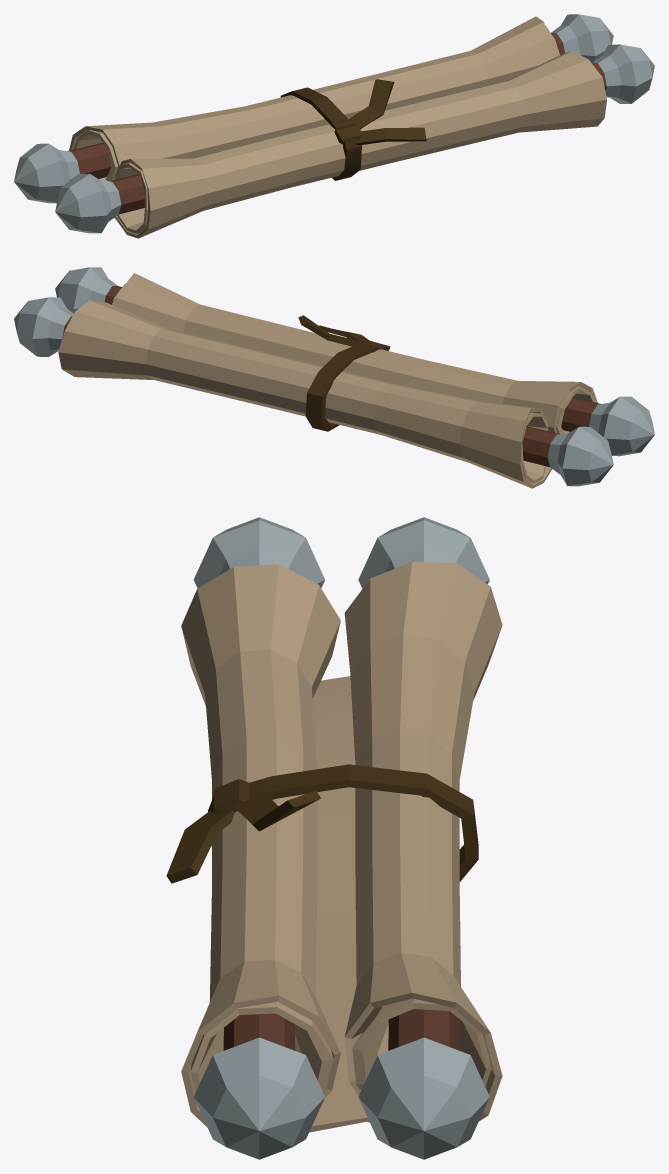
File: PT_Scroll_02_a.fbx
3 views of the same model, one above another, from view 1: azimuth 30°, elevation 25°; view 2: azimuth 150°, elevation 25°; view 3: azimuth 270°, elevation 25° (orthographic). The views are drawn at different scales.
Visible parts, largest first — view 1: PT_Scroll_02_a; view 2: PT_Scroll_02_a; view 3: PT_Scroll_02_a.
Boxes of the visible parts, x1,y1,x2,y2 form: PT_Scroll_02_a: [14, 14, 654, 238]; PT_Scroll_02_a: [14, 267, 654, 488]; PT_Scroll_02_a: [166, 517, 502, 1159].
Bounding box in the file's own units: 53.2 × 7.04 × 12.91.
